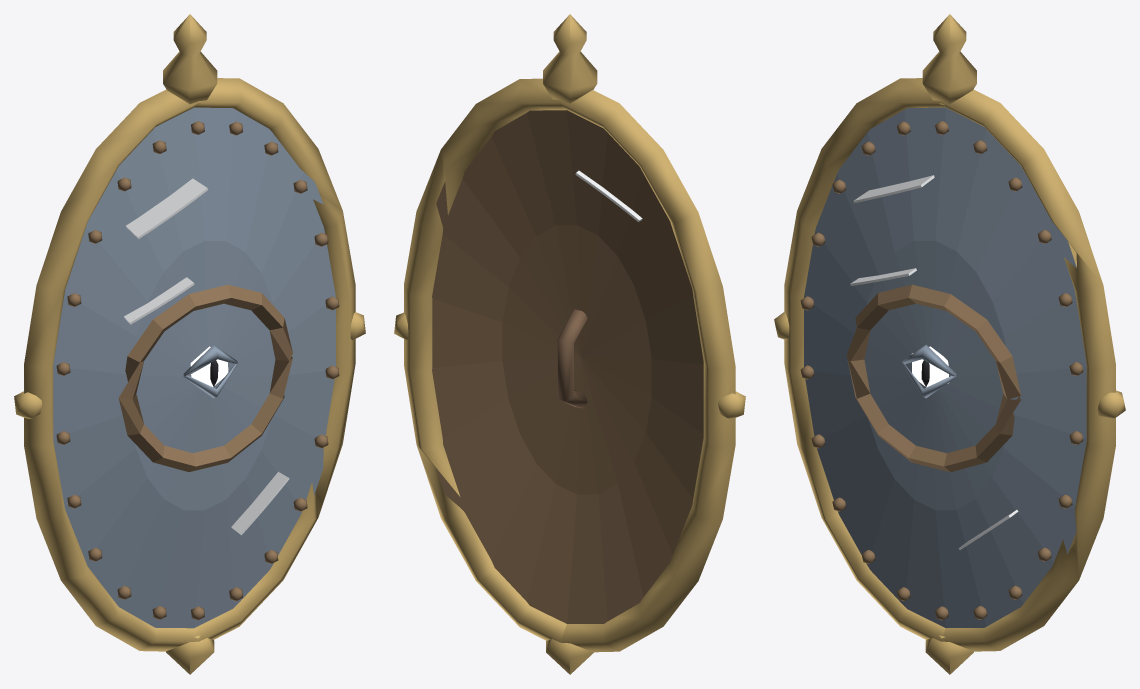
The model's file is shield-mirror.glb.
The picture shows the model from 3 angles, left to right: view 1: azimuth 30°, elevation 25°; view 2: azimuth 150°, elevation 25°; view 3: azimuth 330°, elevation 25°; orthographic projection.
Visible parts, largest first — view 1: shield-mirror; view 2: shield-mirror; view 3: shield-mirror.
Boxes of the visible parts, x1,y1,x2,y2 form: shield-mirror: [14, 14, 365, 674]; shield-mirror: [394, 14, 745, 674]; shield-mirror: [774, 14, 1125, 674].
Bounding box in the file's own units: 0.945 × 1.72 × 0.1932.
